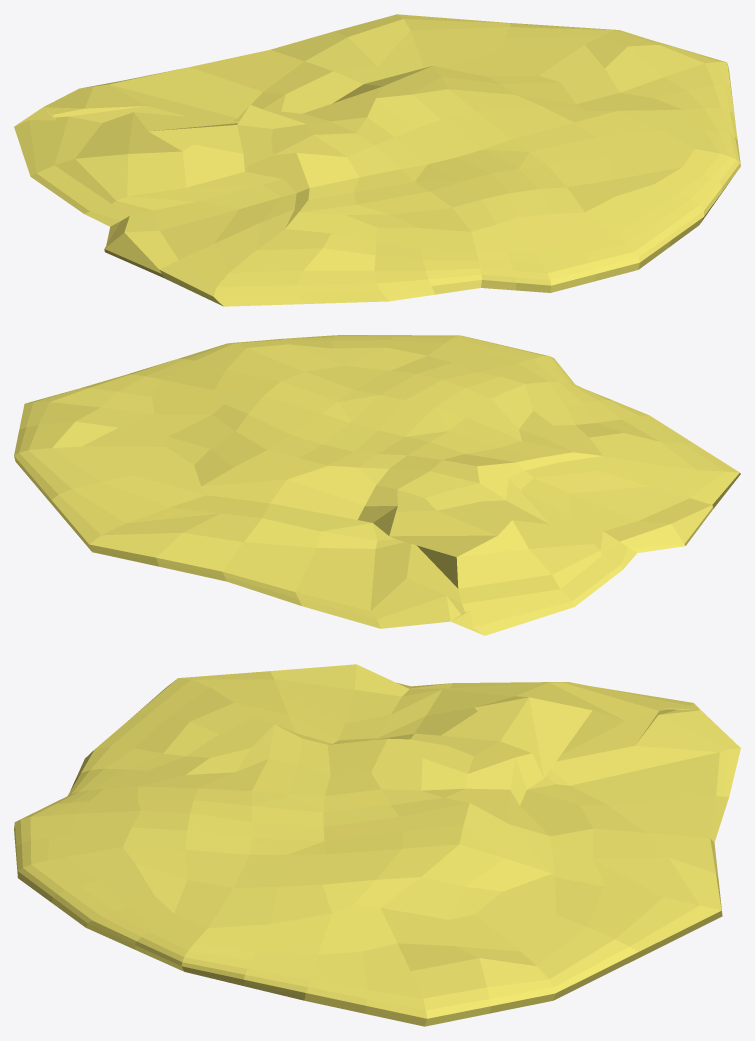
Rendered from Saari-1.fbx.
3 views of the same model, one above another, from view 1: azimuth 30°, elevation 25°; view 2: azimuth 150°, elevation 25°; view 3: azimuth 270°, elevation 25° (orthographic). The views are drawn at different scales.
Parts seen in each view (by area): view 1: Cube; view 2: Cube; view 3: Cube.
Boxes of the visible parts, x1=… form: Cube: x1=14, y1=14, x2=740, y2=306; Cube: x1=14, y1=335, x2=740, y2=635; Cube: x1=14, y1=664, x2=740, y2=1026.
Size of the model in its own units: 8335 by 504 by 7208.
